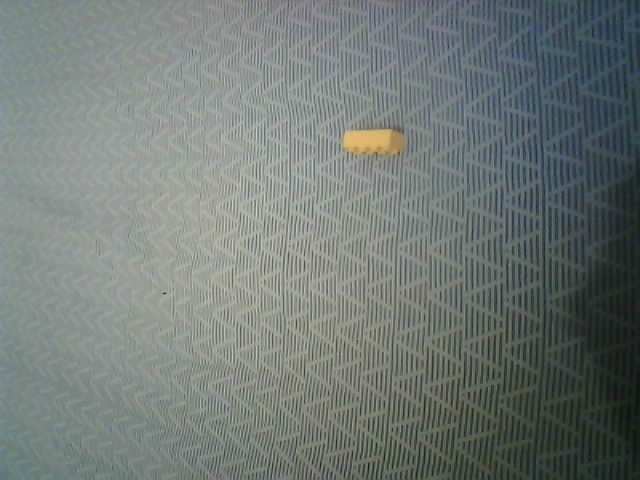lego: (340, 128, 405, 155)
